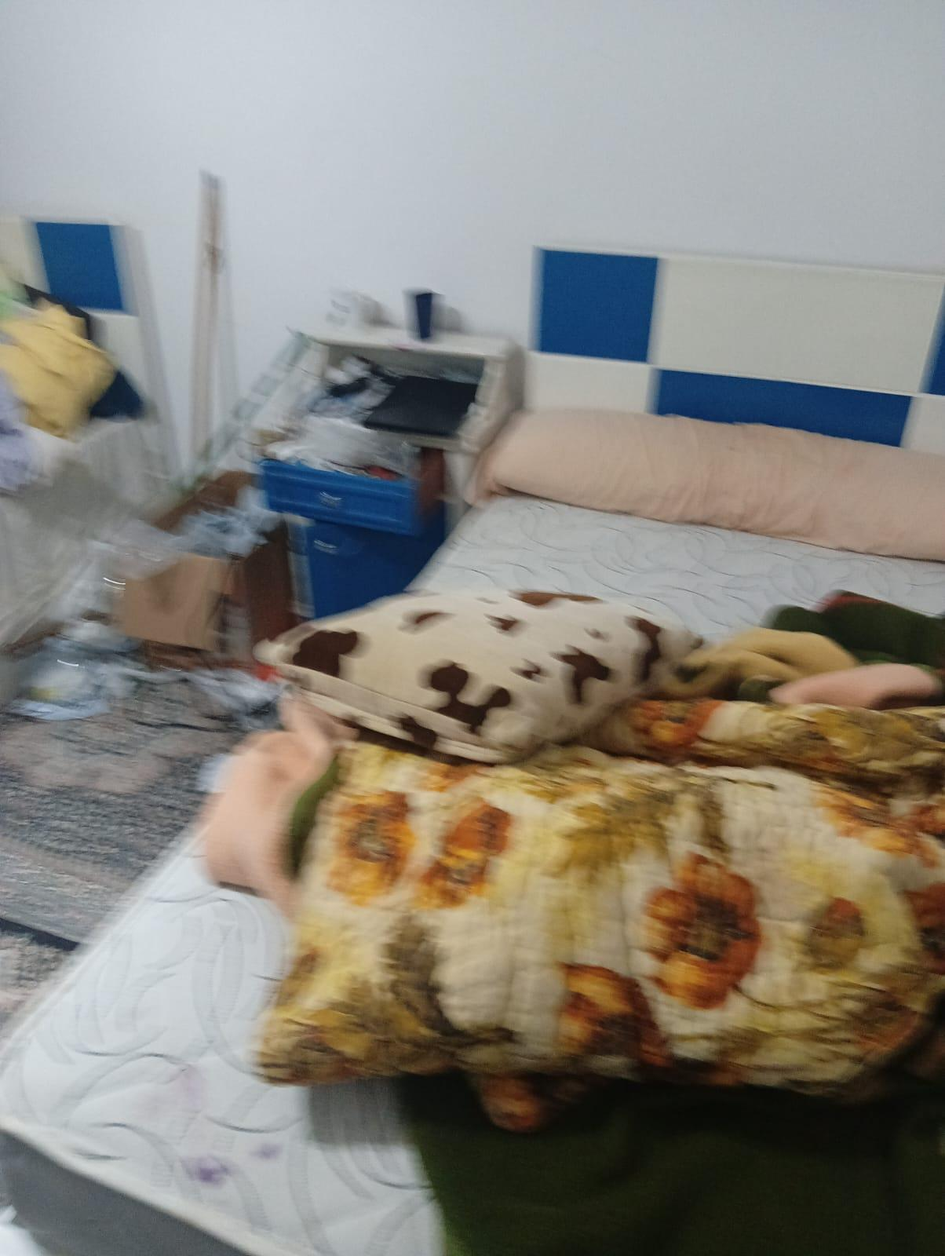cup: (327, 289, 375, 330), (406, 290, 442, 341)
